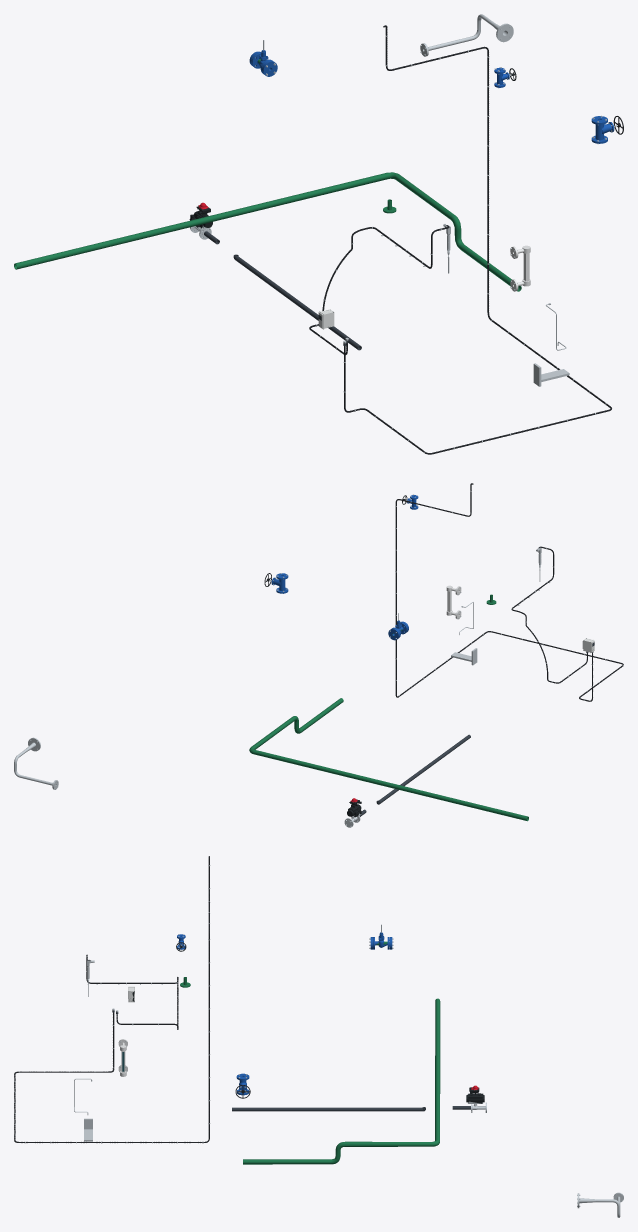
Rendered from s4000-7-Bvh-XNhB.glb.
The picture shows the model from 3 angles, top to bottom: view 1: azimuth 30°, elevation 25°; view 2: azimuth 150°, elevation 25°; view 3: azimuth 270°, elevation 25°; orthographic projection. The views are drawn at different scales.
Parts seen in each view (by area): view 1: suction_common / green, gpz_drive_cable / black, fv_to_trap_gap / steel, bottom_piping / dark, wiring_lp200 / black; view 2: suction_common / green, gpz_drive_cable / black; view 3: suction_common / green, gpz_drive_cable / black, bottom_piping / dark.
Part boxes in pixels (bbox=[...]): suction_common / green: bbox=[14, 172, 521, 291]; gpz_drive_cable / black: bbox=[344, 25, 611, 454]; fv_to_trap_gap / steel: bbox=[420, 14, 513, 56]; bottom_piping / dark: bbox=[233, 254, 361, 350]; wiring_lp200 / black: bbox=[309, 225, 449, 354]; suction_common / green: bbox=[249, 698, 528, 821]; gpz_drive_cable / black: bbox=[395, 483, 623, 701]; suction_common / green: bbox=[243, 998, 440, 1164]; gpz_drive_cable / black: bbox=[14, 856, 209, 1142]; bottom_piping / dark: bbox=[232, 1107, 425, 1111].
Bounding box in the file's own units: 5.83 × 3.17 × 6.74.
